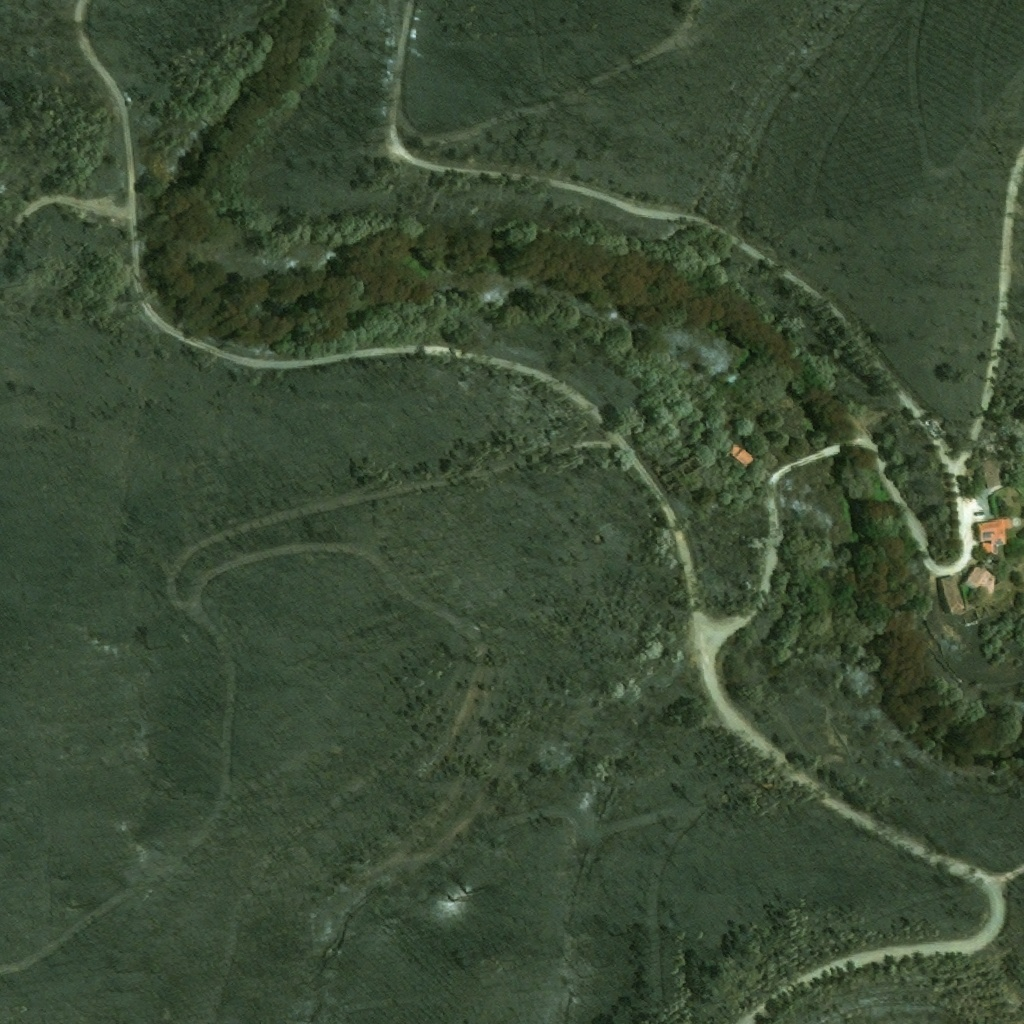0 no-damage: (976, 516, 1012, 554), (938, 574, 964, 614), (726, 441, 755, 468), (984, 456, 1003, 485)
2 major-damage: (963, 552, 1004, 600)
4 un-classified: (726, 371, 745, 389), (1006, 461, 1017, 471), (993, 486, 1000, 494), (1017, 423, 1023, 432)
